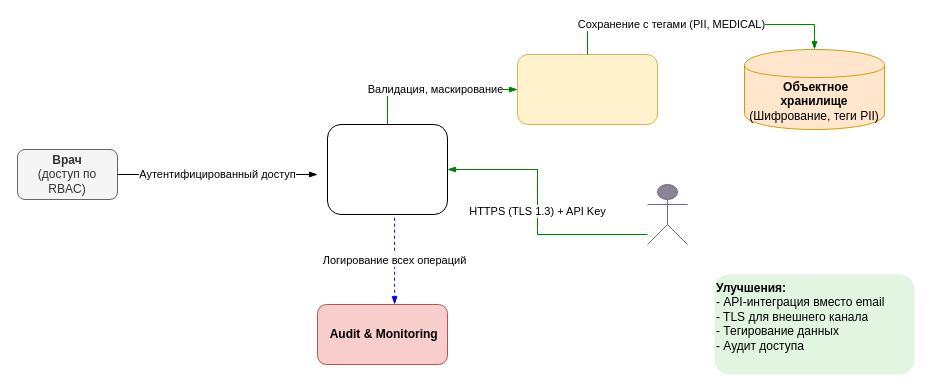
Some shapes in this 932 by 392 pixel diagram are drawn without their labels. Here are the shapes that lost their labels. From the top down, the centre of each, then its label:
At point 587,89: "Сервис интеграции с лабораторией".
At point 387,169: "API Gateway (Аутентификация, TLS, Маскирование)".
